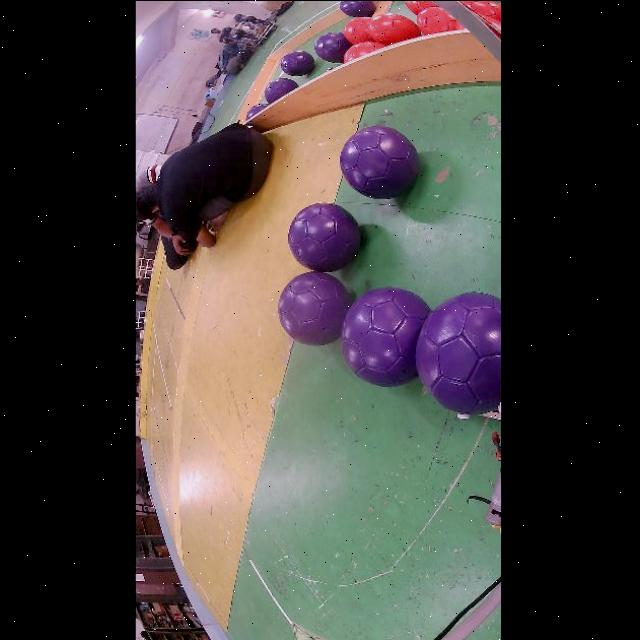P: (414, 292, 501, 415), (341, 286, 429, 386), (339, 125, 418, 198), (277, 271, 351, 344), (287, 202, 361, 271), (314, 31, 351, 62), (263, 76, 297, 103), (280, 50, 314, 75), (339, 0, 375, 17), (244, 102, 267, 120)
R: (367, 13, 421, 45), (415, 5, 462, 35), (459, 0, 501, 33), (343, 15, 374, 43), (343, 41, 383, 61), (405, 0, 436, 14)
